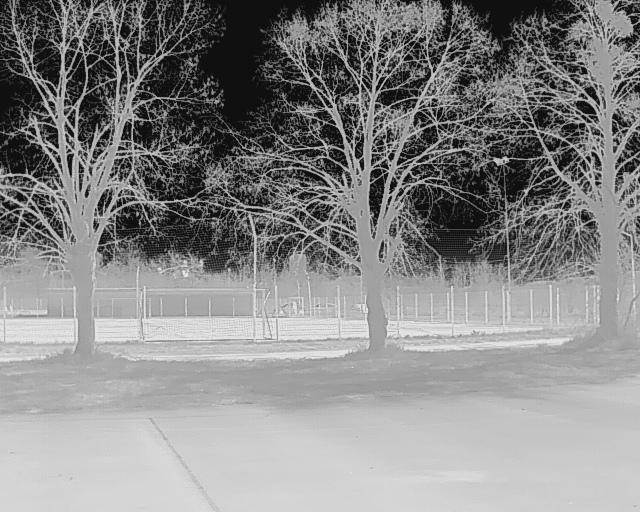drone: (149, 252, 213, 290)
